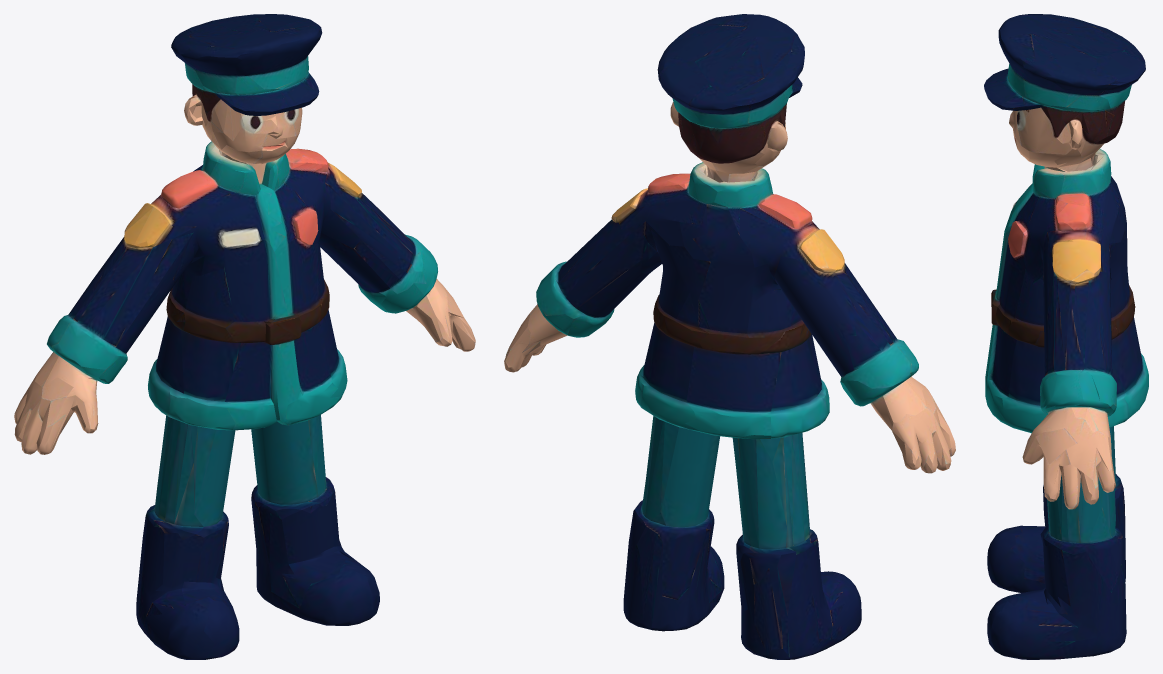
Rendered from police-officer-512.glb.
3 renders of one model, left to right at view 1: azimuth 30°, elevation 25°; view 2: azimuth 150°, elevation 25°; view 3: azimuth 270°, elevation 25°, orthographic. The views are drawn at different scales.
Parts seen in each view (by area): view 1: output_unwrapped; view 2: output_unwrapped; view 3: output_unwrapped.
Boxes of the visible parts, <box> form: output_unwrapped: <box>14,14,475,659</box>; output_unwrapped: <box>504,14,955,659</box>; output_unwrapped: <box>984,14,1148,659</box>.
Size of the model in its own units: 1.49 by 1.9 by 0.487.
1 material, 1 textured.
